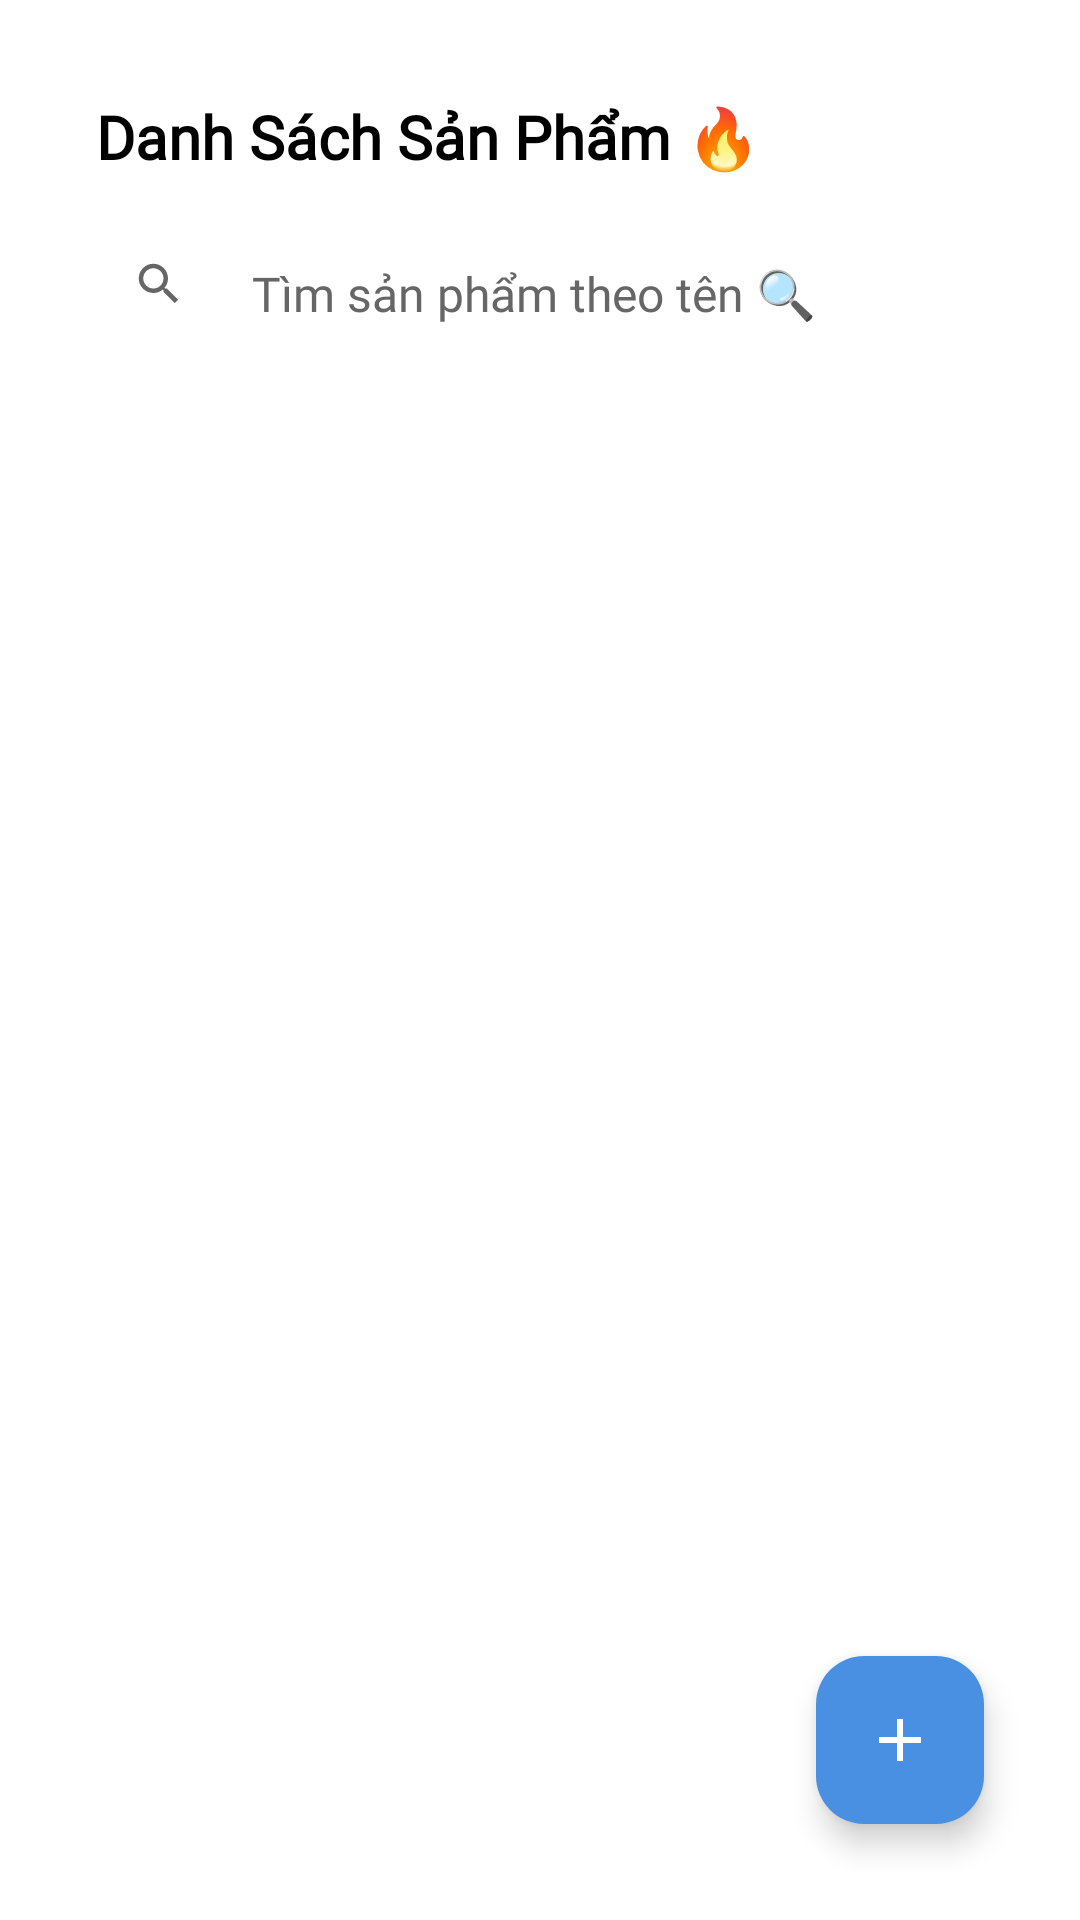

Named icons in this screenshot (1080*1920) and their centers, (x=x, y=y):
plus: (x=900, y=1740)
search: (x=158, y=283)
